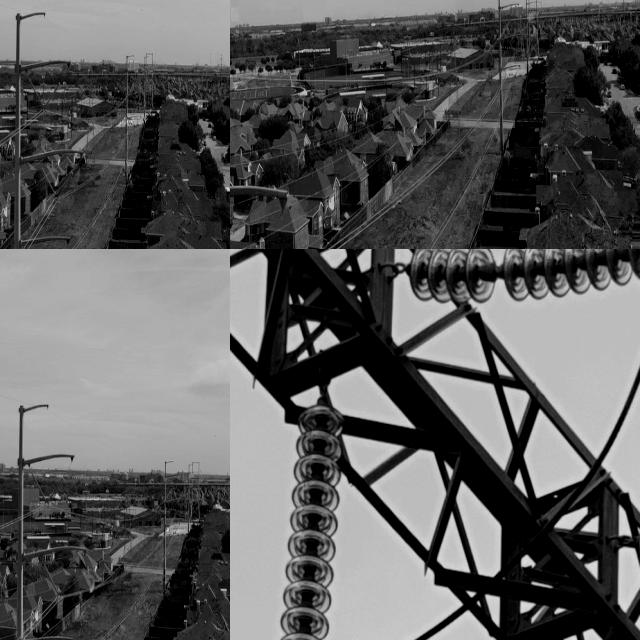正常绝缘子: (281, 379, 345, 640), (388, 249, 640, 310), (52, 164, 78, 203), (26, 71, 47, 112), (39, 161, 60, 200), (41, 78, 63, 114), (31, 471, 50, 508), (58, 566, 79, 599), (43, 560, 61, 597), (45, 475, 65, 505)
绝缘子破损: (488, 261, 501, 282)
